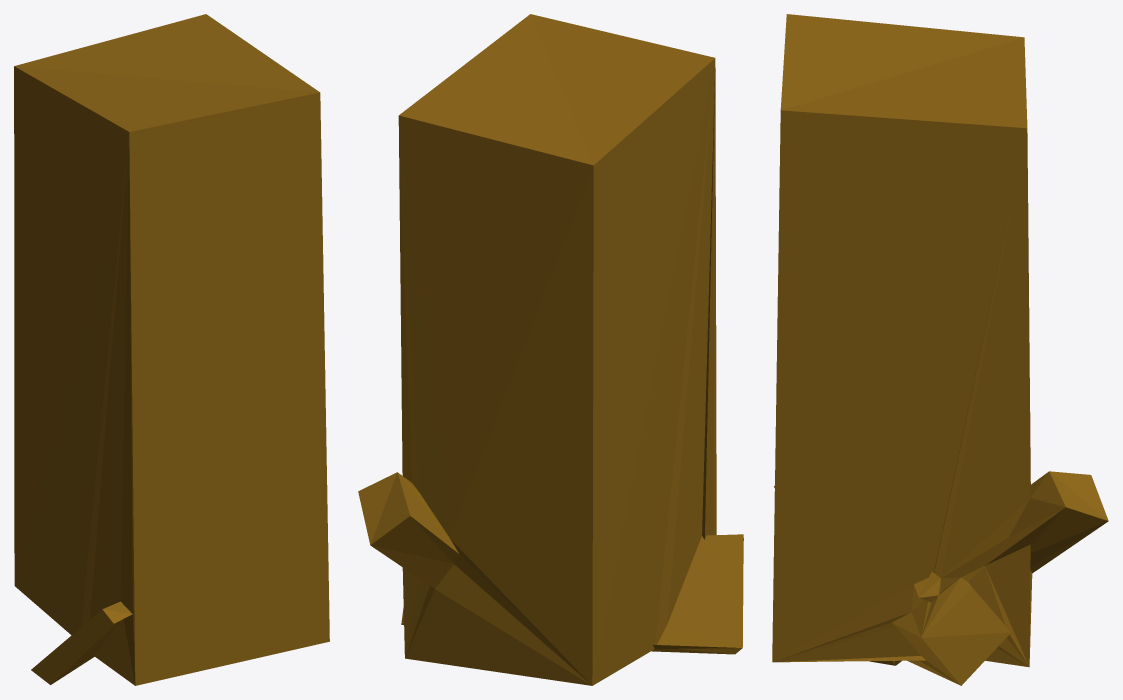
3 views of the same model, side by side, from view 1: azimuth 30°, elevation 25°; view 2: azimuth 150°, elevation 25°; view 3: azimuth 270°, elevation 25° (orthographic).
Parts seen in each view (by area): view 1: 998_Cube.4027; view 2: 998_Cube.4027; view 3: 998_Cube.4027.
Part boxes in pixels (x1=…): 998_Cube.4027: x1=14, y1=14, x2=329, y2=685; 998_Cube.4027: x1=358, y1=14, x2=743, y2=685; 998_Cube.4027: x1=772, y1=14, x2=1108, y2=685.
Bounding box in the file's own units: 6.96 × 13.11 × 6.71.
